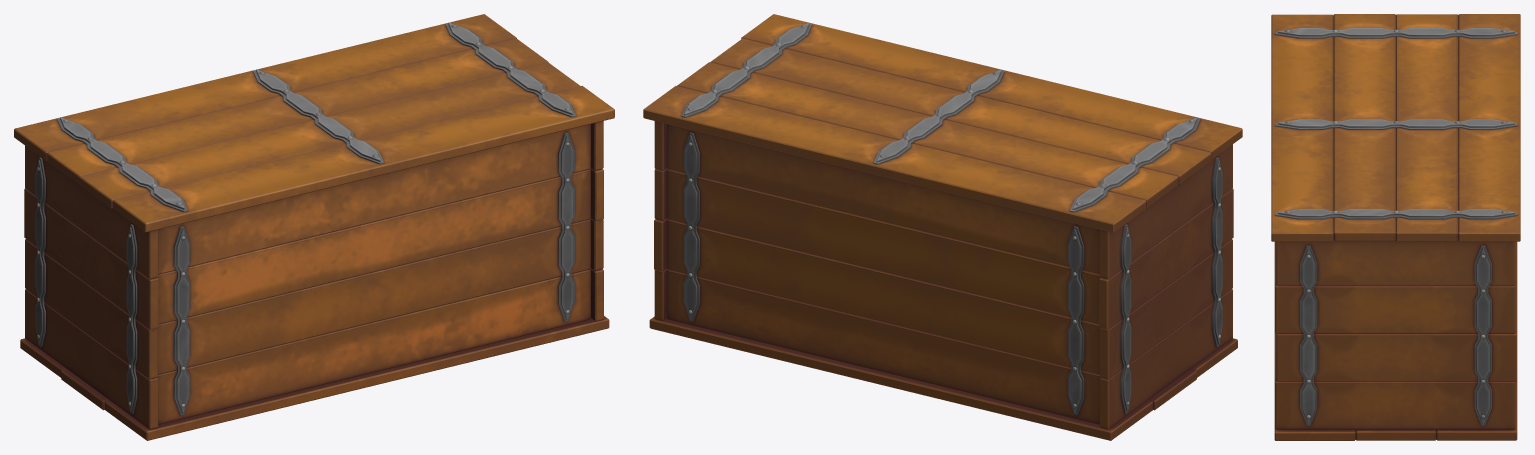
Rendered from crades.obj.
3 views of the same model, side by side, from view 1: azimuth 30°, elevation 25°; view 2: azimuth 150°, elevation 25°; view 3: azimuth 270°, elevation 25° (orthographic). The views are drawn at different scales.
Parts seen in each view (by area): view 1: Crade1; view 2: Crade1; view 3: Crade1.
Part boxes in pixels (x1,y1,x2,y2): Crade1: [14, 14, 614, 440]; Crade1: [643, 14, 1242, 440]; Crade1: [1271, 14, 1520, 440].
Size of the model in its own units: 2.6 by 1.18 by 1.25.
1 material, 1 textured.
